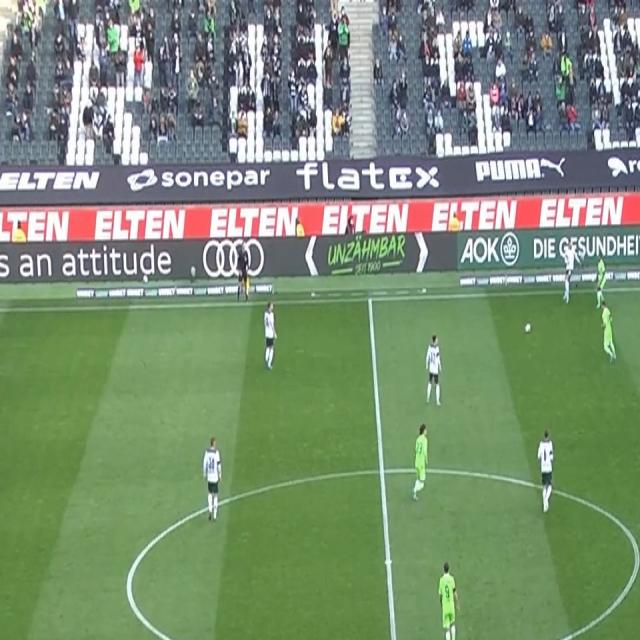ball: (524, 321, 532, 334)
